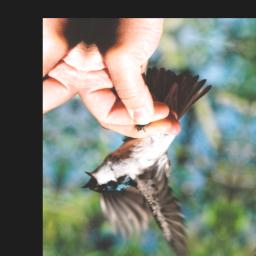Swallow: (63, 55, 236, 256)
